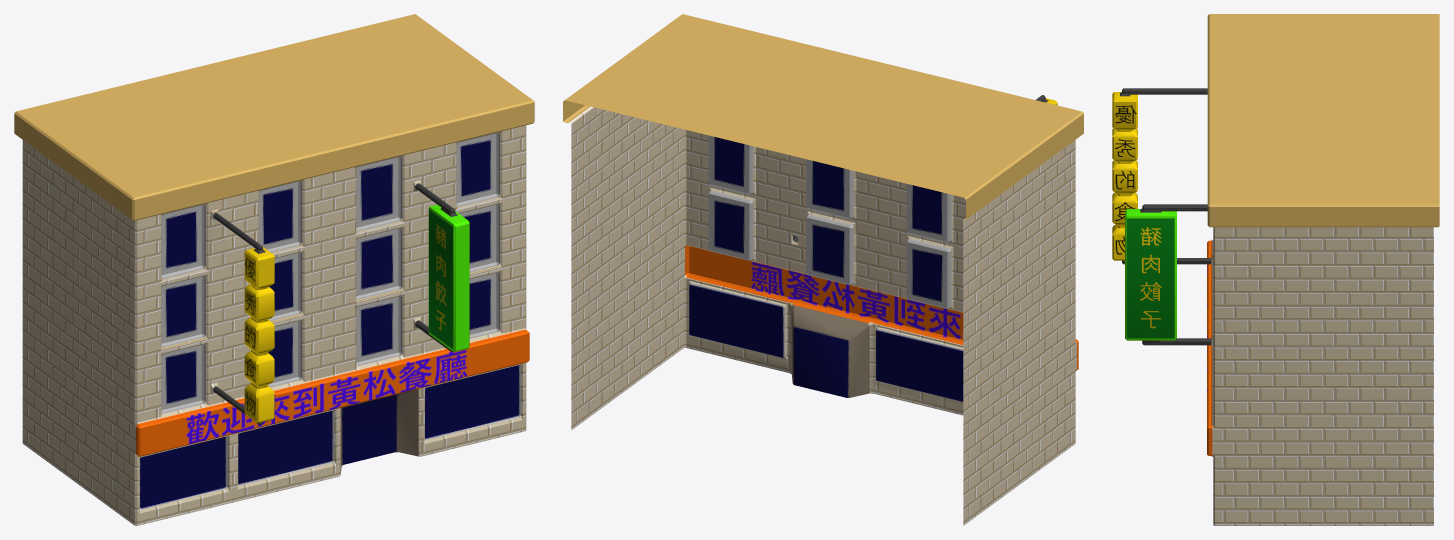
File: Building5.fbx
The picture shows the model from 3 angles, left to right: view 1: azimuth 30°, elevation 25°; view 2: azimuth 150°, elevation 25°; view 3: azimuth 270°, elevation 25°; orthographic projection. The views are drawn at different scales.
Visible parts, largest first — view 1: Building5; view 2: Building5; view 3: Building5.
Boxes of the visible parts, box(x1,y1,x2,y2) form: Building5: box(14, 14, 534, 525); Building5: box(563, 14, 1083, 525); Building5: box(1112, 14, 1439, 525).
Bounding box in the file's own units: 2000 × 1571 × 1441.
1 material, 1 textured.
